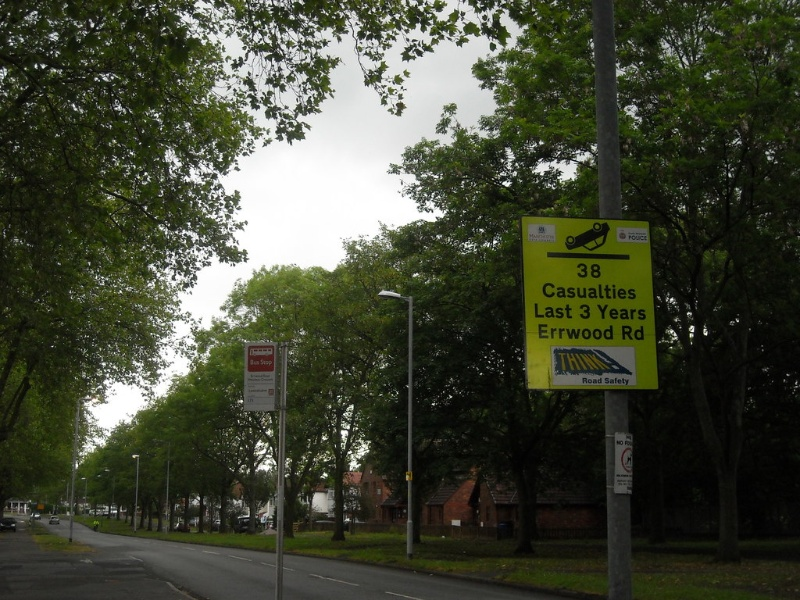bus_stop: (237, 343, 283, 407)
